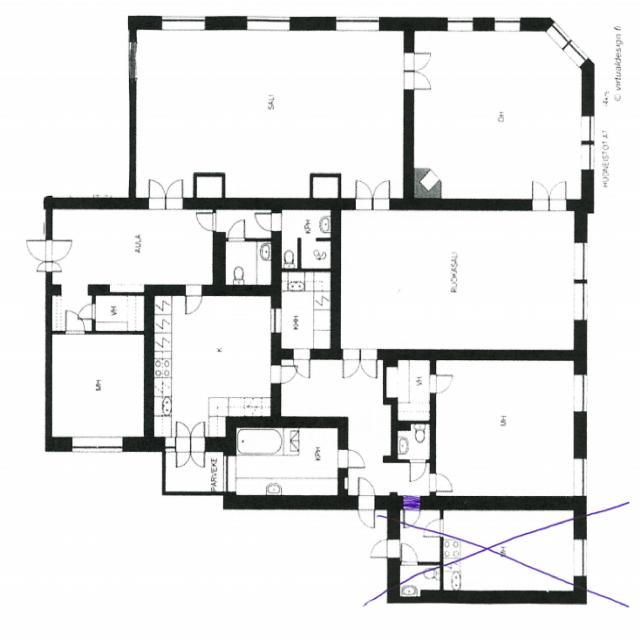door: (372, 180, 390, 210), (532, 179, 549, 210), (45, 241, 71, 261), (26, 241, 52, 261), (359, 478, 375, 510), (149, 180, 166, 210), (165, 180, 182, 210), (355, 180, 372, 210), (359, 496, 375, 527), (550, 179, 566, 210), (343, 349, 360, 378), (360, 349, 377, 378), (293, 349, 310, 378), (271, 366, 298, 384), (404, 496, 419, 528), (186, 284, 202, 314), (372, 540, 400, 557), (255, 214, 281, 232), (404, 71, 430, 89), (404, 53, 430, 71), (338, 450, 363, 468), (429, 474, 453, 492), (429, 375, 453, 393), (66, 310, 84, 334), (190, 422, 204, 452), (190, 437, 204, 467), (177, 422, 190, 452), (177, 437, 190, 467), (402, 544, 418, 566), (196, 213, 216, 230), (424, 520, 444, 536), (410, 460, 426, 480), (228, 221, 244, 241), (78, 304, 95, 319), (45, 262, 61, 272), (36, 262, 52, 272)
